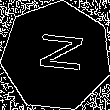N_W: (29, 34, 84, 79)
